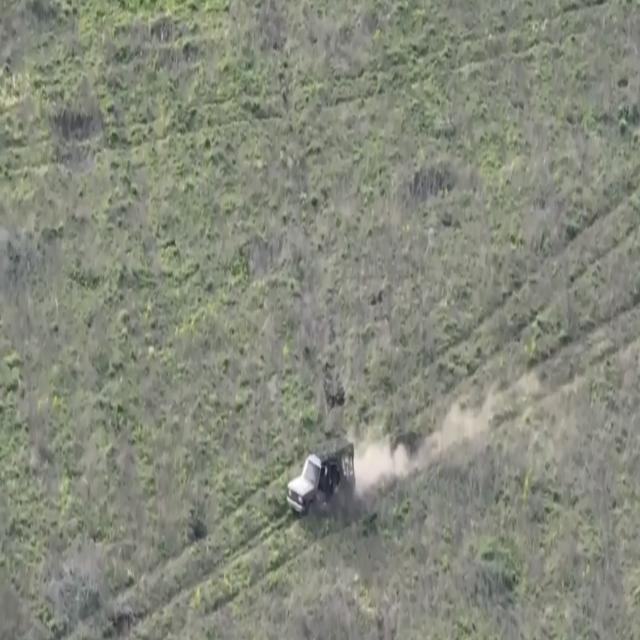vehicle: (288, 436, 356, 517)
